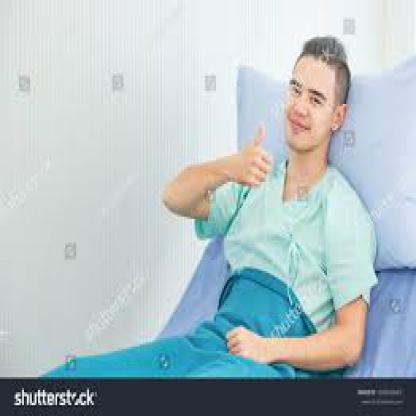Thumbs up: (236, 129, 275, 189)
